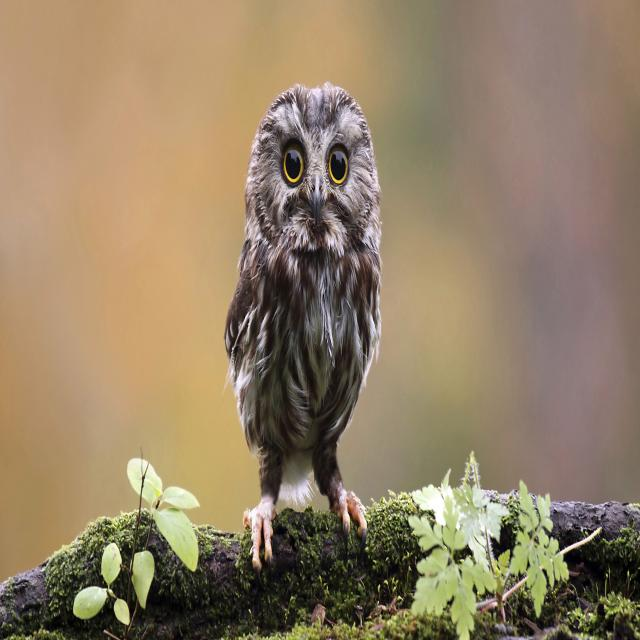owl: (224, 83, 381, 574)
